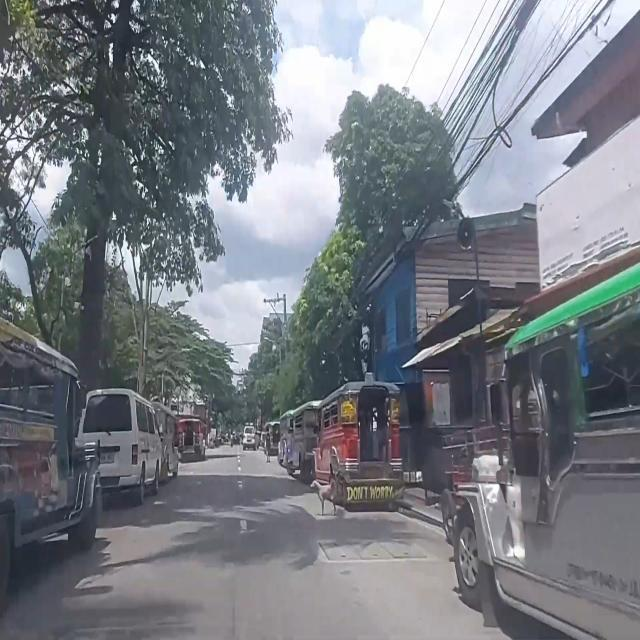car: (76, 387, 162, 507)
jeepney: (445, 266, 640, 640), (1, 312, 100, 602), (312, 377, 406, 513), (282, 399, 318, 484), (150, 402, 179, 483), (176, 414, 207, 462), (264, 422, 282, 456)
